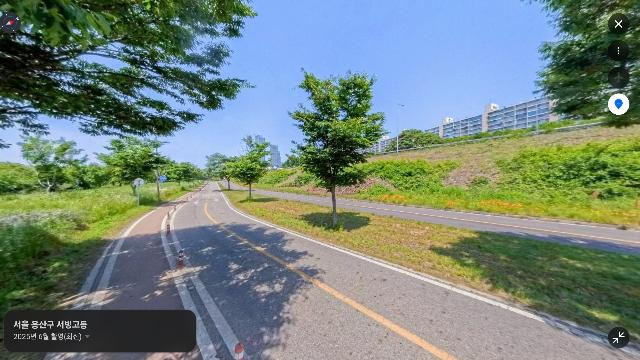other: (0, 0, 259, 150), (286, 67, 389, 229), (532, 0, 640, 132), (100, 136, 167, 201), (18, 133, 87, 196), (224, 133, 277, 201), (384, 128, 445, 152), (204, 151, 240, 191), (168, 163, 196, 187)
